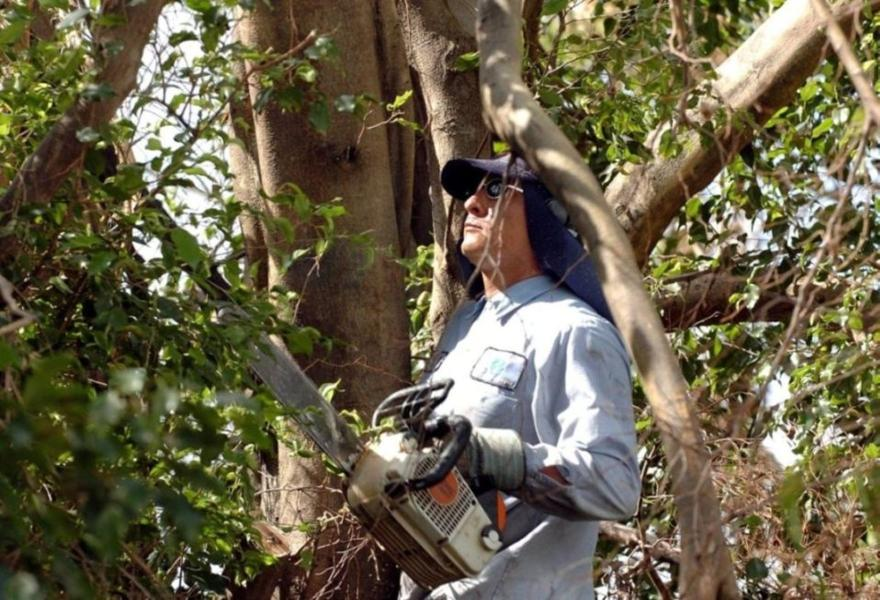person: (397, 154, 644, 600)
